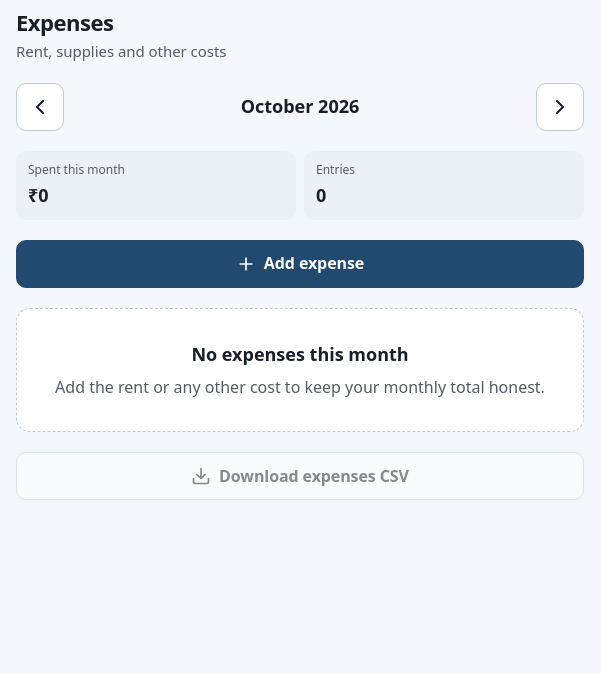
Test: the expenses screen › refuses an empty label or a bad amount with a message
The image size is (601, 674).
Click the button "Add expense" at coordinates (300, 264), box [16, 240, 584, 288]
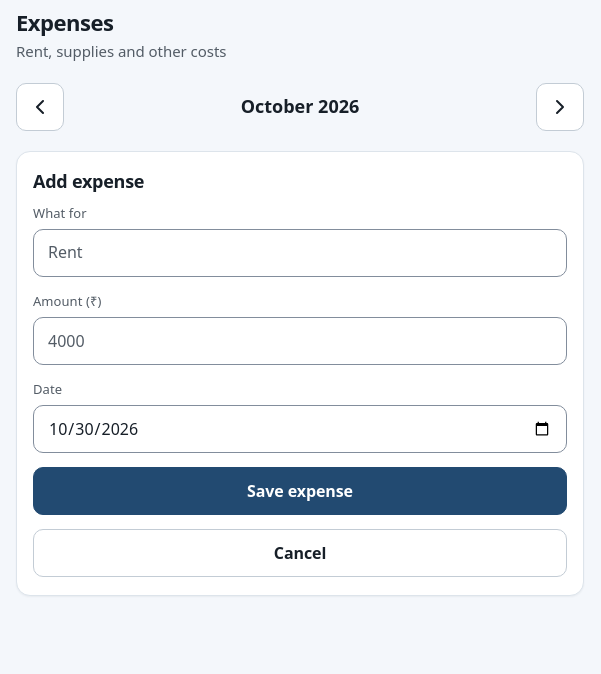
Click the button "Save expense" at coordinates (300, 491), box [33, 467, 567, 515]
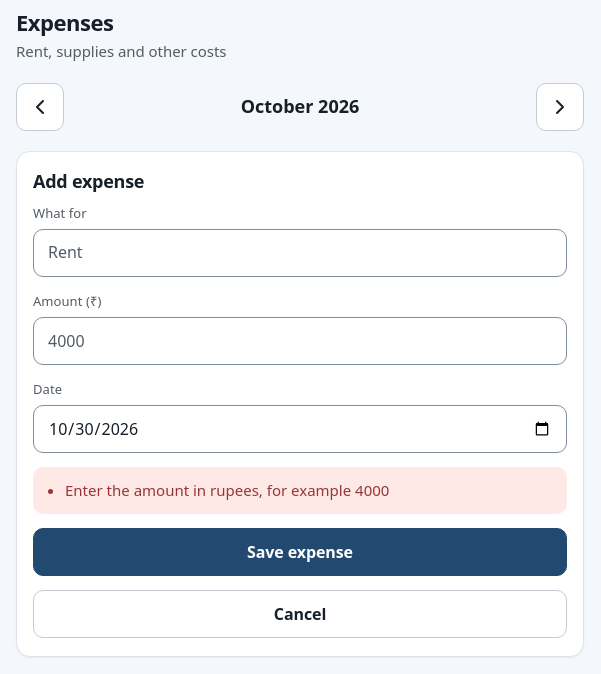
Expected: the message "Enter the amount in rupees, for example 4000" is shown, [33, 467, 567, 514]
